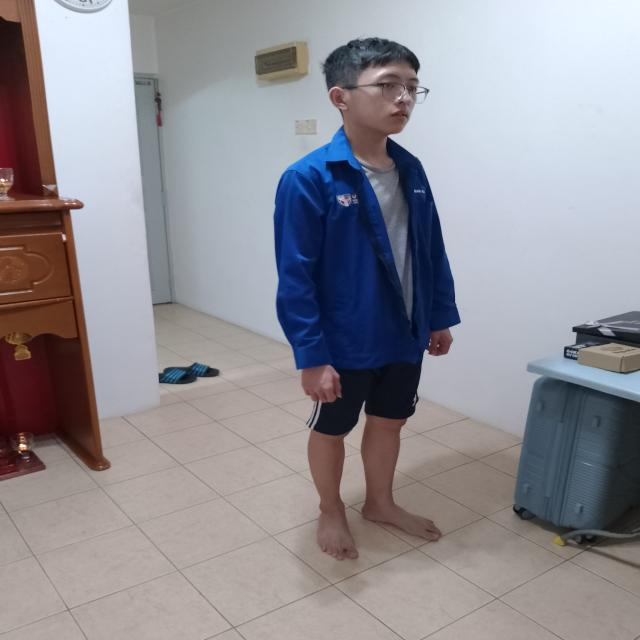person_with_labcoat: (274, 38, 460, 559)
